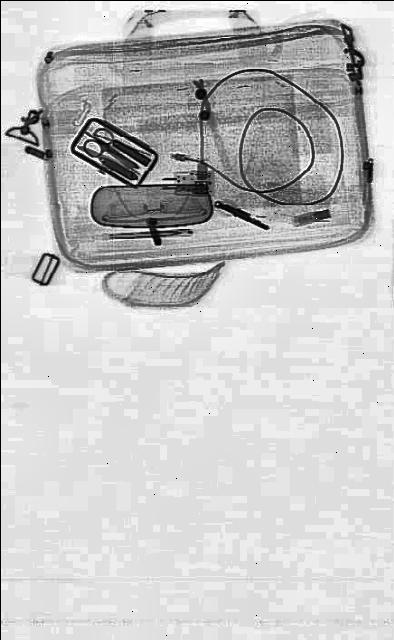Scissors: (80, 120, 142, 182)
